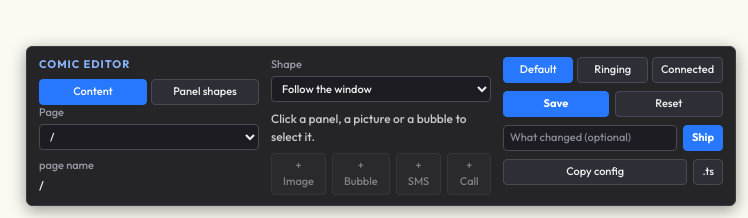
Scenario: EditorToolbar › shows the server-side reason when the ship fails, and no PR link
The image size is (748, 218).
Click the button "Ship": click(703, 138) [683, 125, 723, 151]
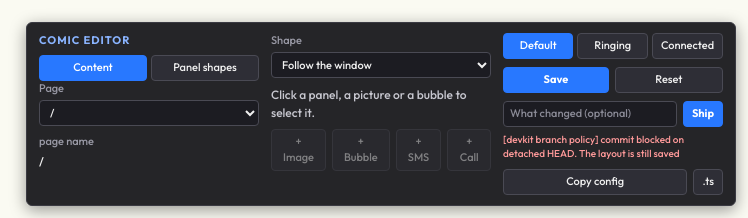
Now the message shows "commit blocked on detached HEAD", box [503, 133, 684, 160]
